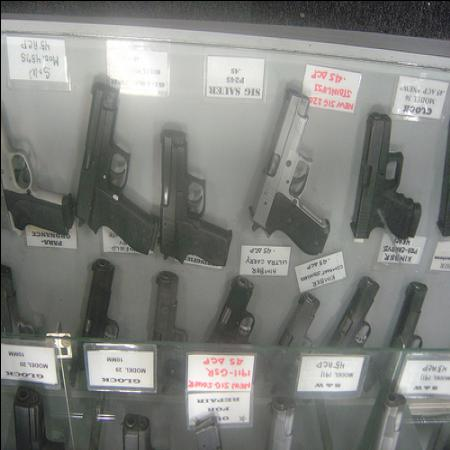Pistol: (244, 89, 331, 258), (80, 68, 158, 256), (1, 106, 76, 246), (158, 130, 230, 266), (349, 116, 423, 242), (144, 276, 214, 395), (202, 278, 266, 396), (326, 280, 382, 404), (270, 292, 324, 410), (5, 380, 66, 448), (115, 405, 155, 448)
